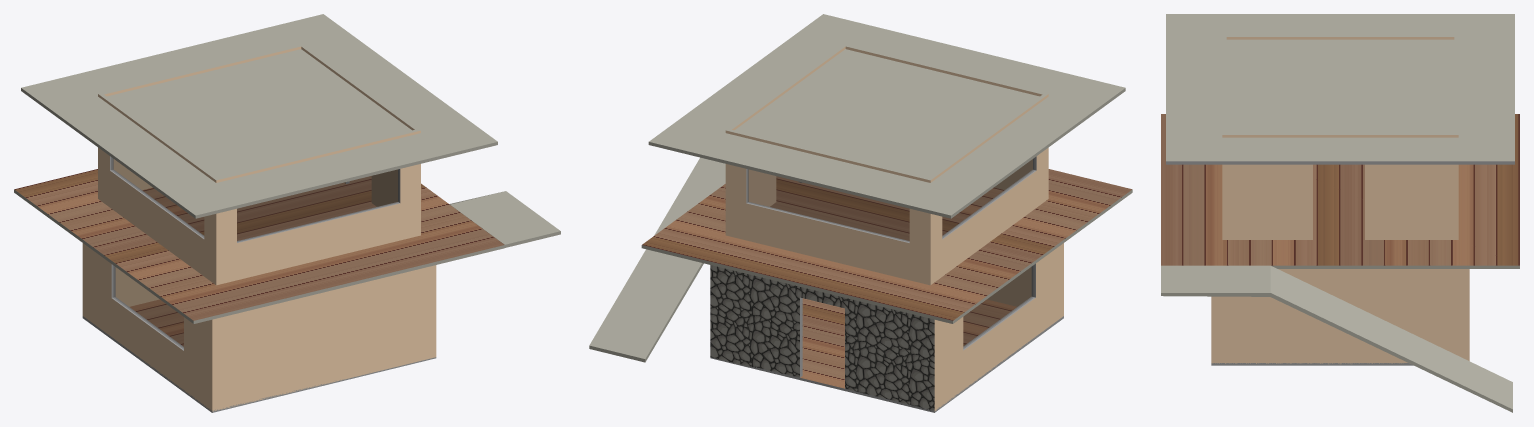
File: Cabin.fbx
The picture shows the model from 3 angles, left to right: view 1: azimuth 30°, elevation 25°; view 2: azimuth 150°, elevation 25°; view 3: azimuth 270°, elevation 25°; orthographic projection.
Visible parts, largest first — view 1: pCube4; view 2: pCube4; view 3: pCube4.
Part boxes in pixels (x1,y1,x2,y2): pCube4: (14,14,560,412); pCube4: (589,14,1132,412); pCube4: (1161,14,1519,412).
Size of the model in its own units: 9.83 by 5.78 by 8.33.
8 materials, 5 textured.
